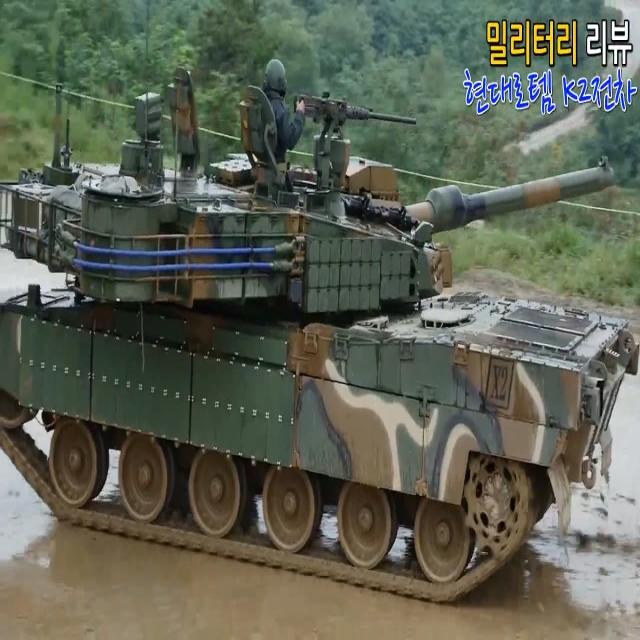korea tank: (1, 59, 640, 598)
